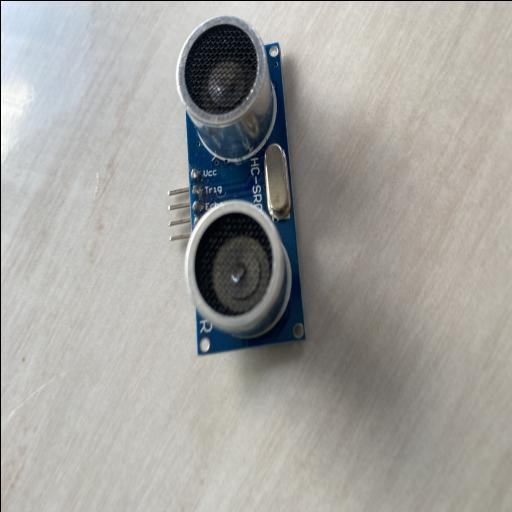Ultrasonic Sensor: (168, 13, 306, 357)
